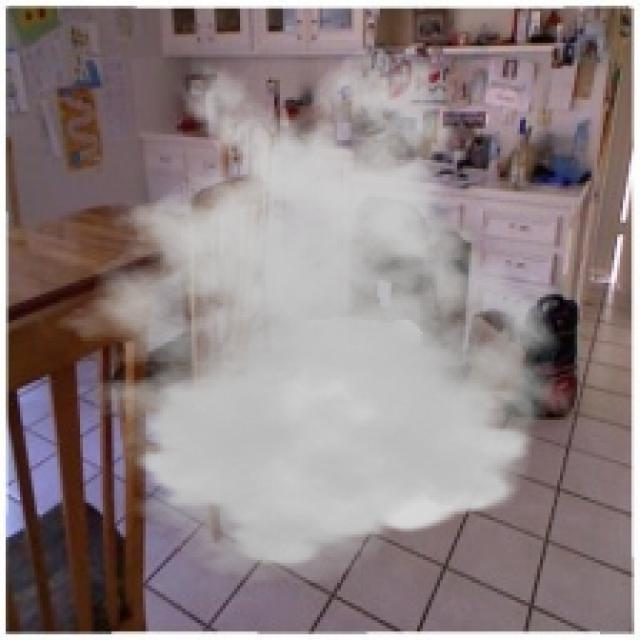Smoke: (31, 43, 586, 586)
